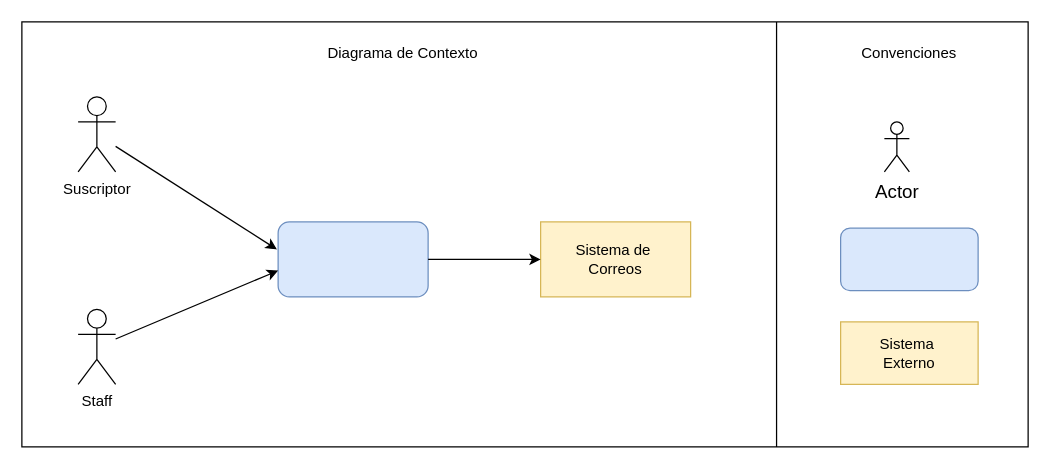
This 1050x470 diagram has some shape labels left out. The shapes that lost their labels are listed below. From the top down, each one's box as (x1, y1, x2, y2) in pixels, then its label:
(277, 221, 428, 297): Ghost
(839, 227, 978, 291): Sisstema Interno
